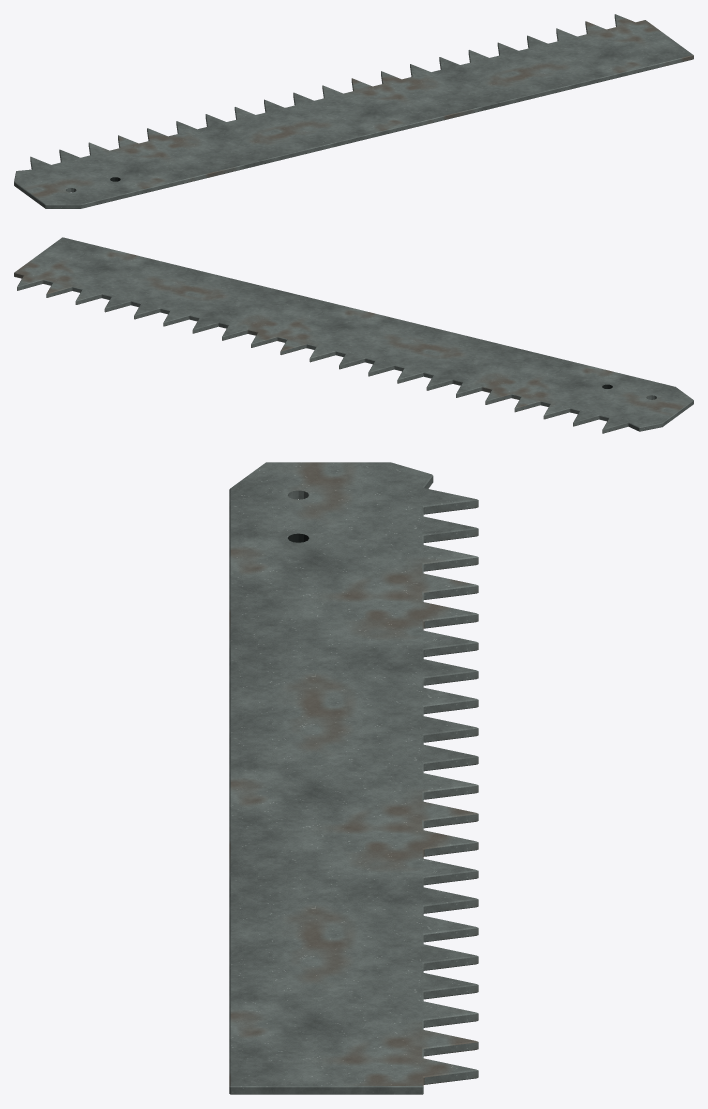
The model's file is SawBlade.fbx.
The picture shows the model from 3 angles, top to bottom: view 1: azimuth 30°, elevation 25°; view 2: azimuth 150°, elevation 25°; view 3: azimuth 270°, elevation 25°; orthographic projection. The views are drawn at different scales.
Visible parts, largest first — view 1: SawBlade_00_Steel blade with 21 cut teeth; view 2: SawBlade_00_Steel blade with 21 cut teeth; view 3: SawBlade_00_Steel blade with 21 cut teeth.
Boxes of the visible parts, x1=… form: SawBlade_00_Steel blade with 21 cut teeth: x1=14, y1=14, x2=693, y2=208; SawBlade_00_Steel blade with 21 cut teeth: x1=14, y1=237, x2=693, y2=433; SawBlade_00_Steel blade with 21 cut teeth: x1=229, y1=462, x2=478, y2=1094.
Bounding box in the file's own units: 44.9 × 0.3 × 7.57.
